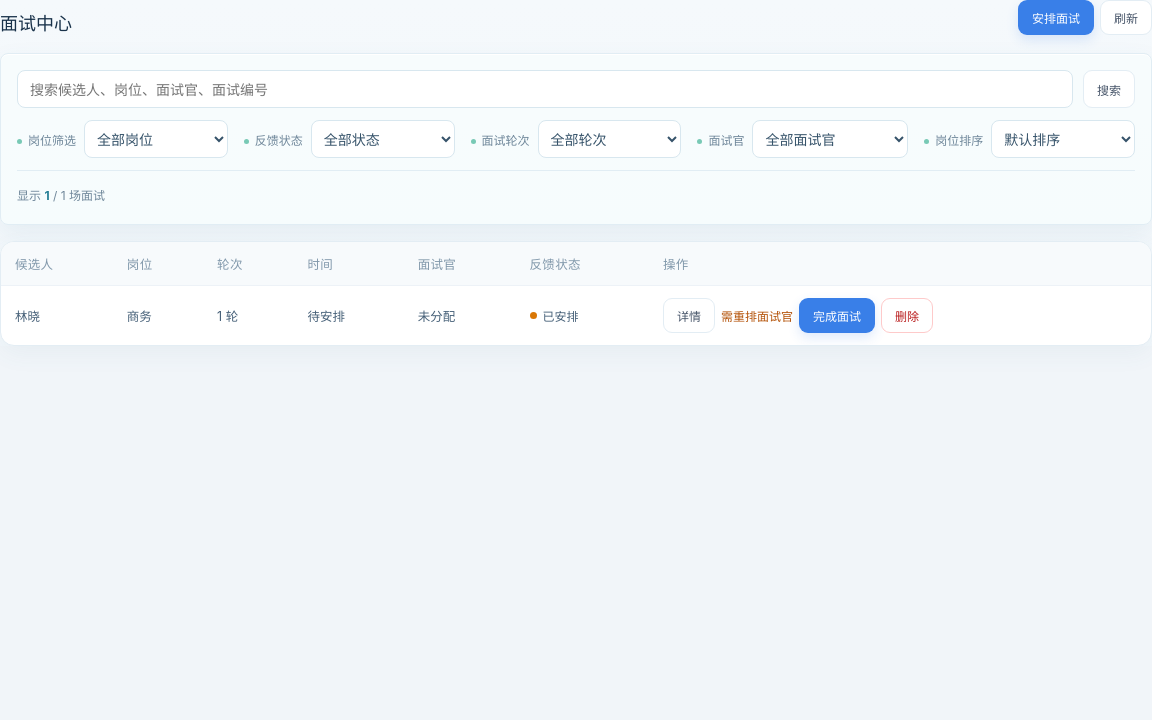
Test: Interview conclusion from list › keeps network errors visible in the modal and clears them on reopening
The image size is (1152, 720).
Click the button "完成面试" at (837, 316), box 799,298 -> 875,333
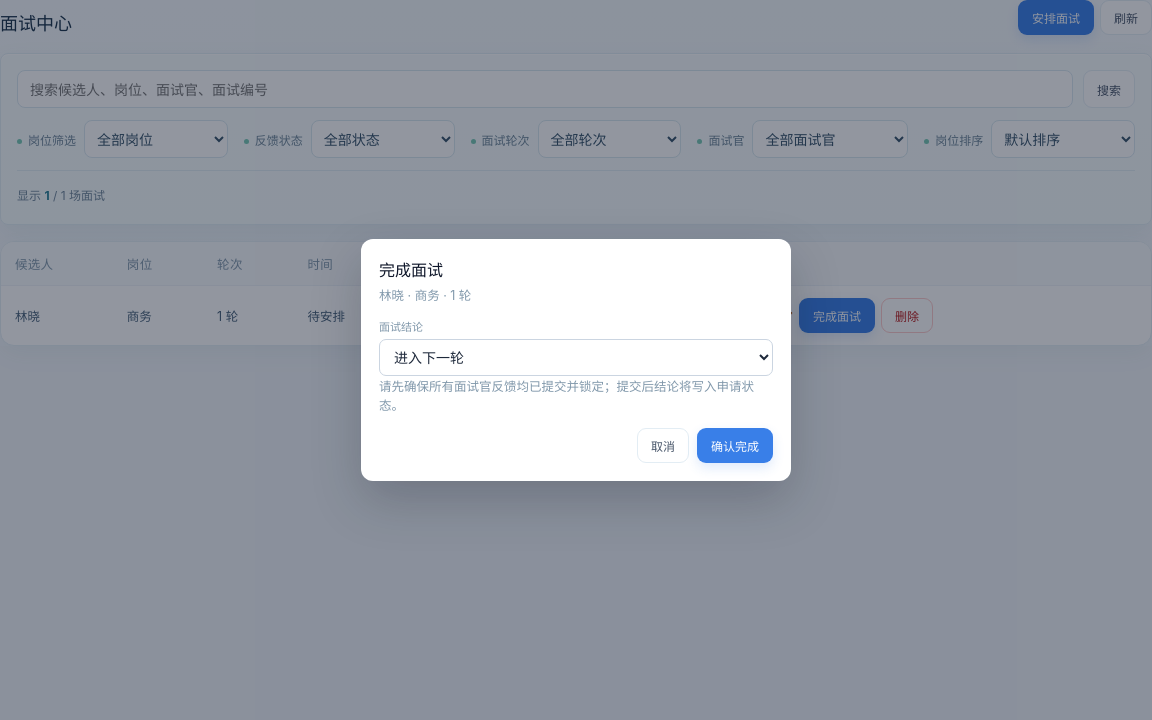
Check: the dialog is shown, box 361,239 -> 791,481
Check: the button "确认完成" is shown
Click the button "确认完成" at (735, 446), box 697,428 -> 773,463
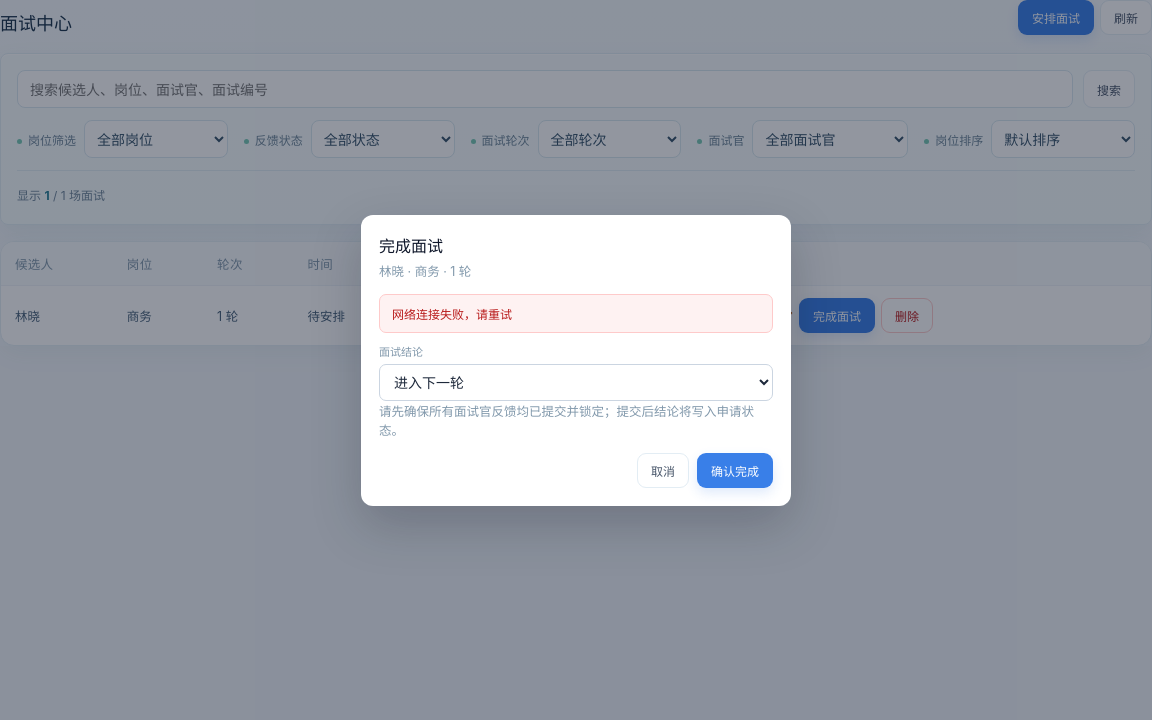
Check: the dialog is shown, box 361,214 -> 791,506
Check: the button "取消" is shown
Check: the message "网络连接失败，请重试" is shown, box 379,294 -> 773,332
Click the button "取消" at (663, 470), box 637,452 -> 689,488
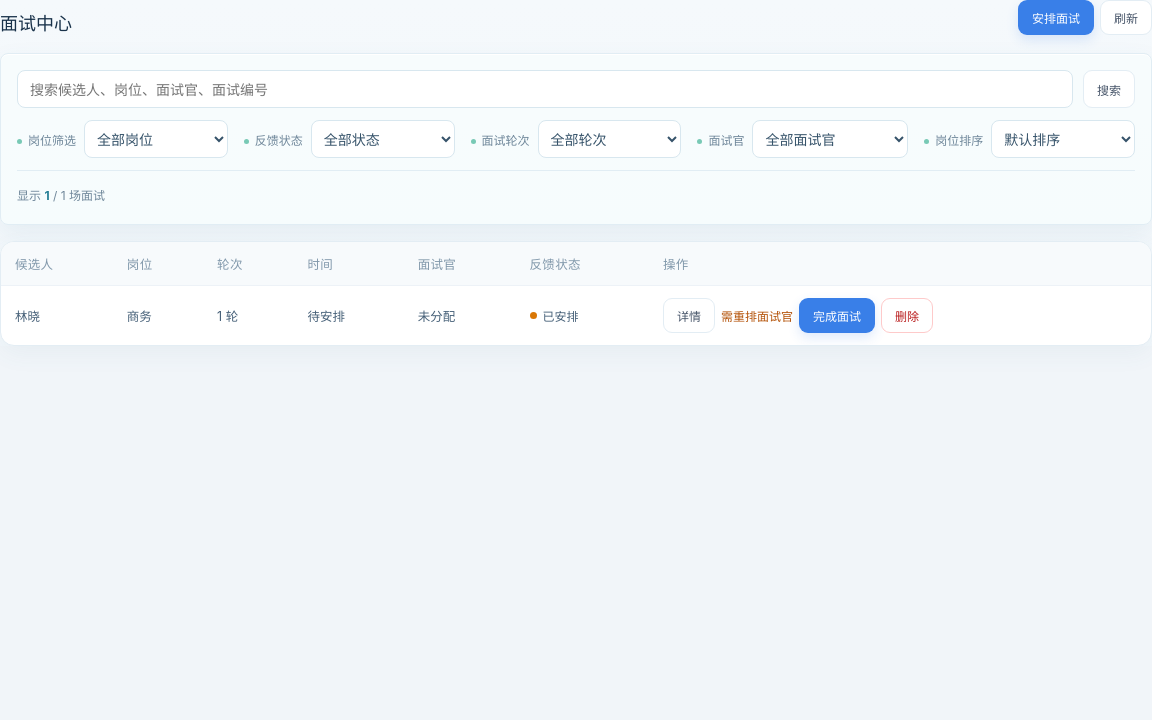
Check: the text "网络连接失败" is gone
Click the button "完成面试" at (837, 316), box 799,298 -> 875,333
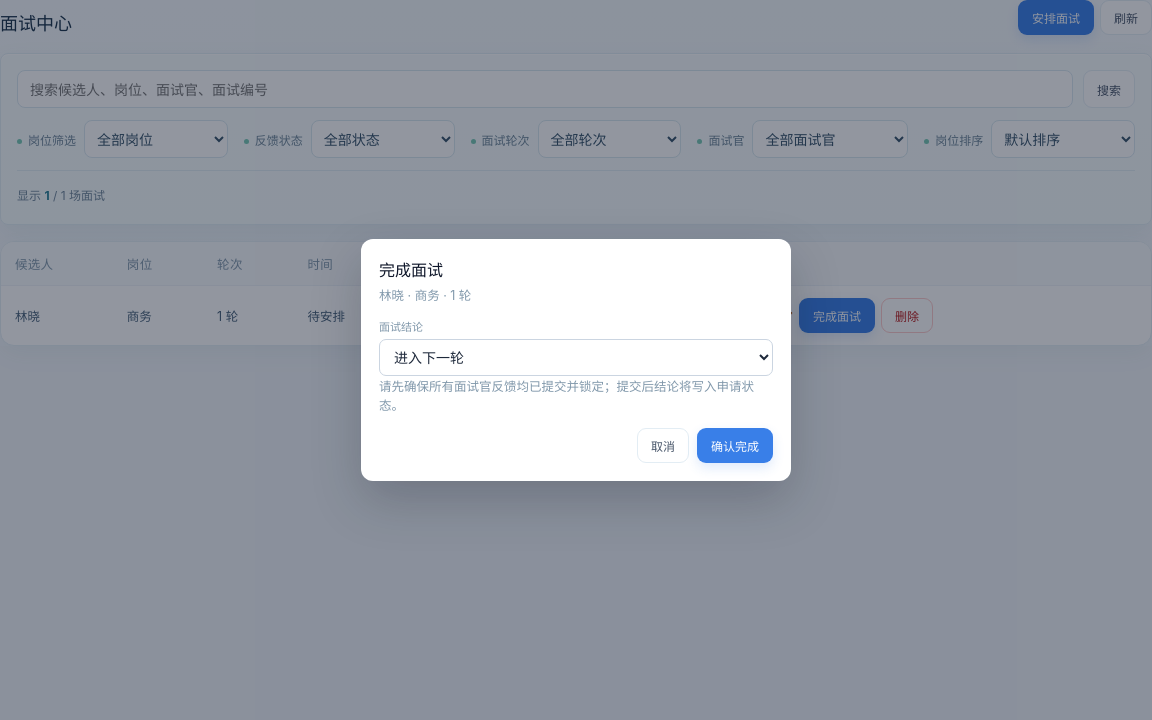
Check: the message "网络连接失败，请重试" is not shown
Check: the dialog is shown, box 361,239 -> 791,481
